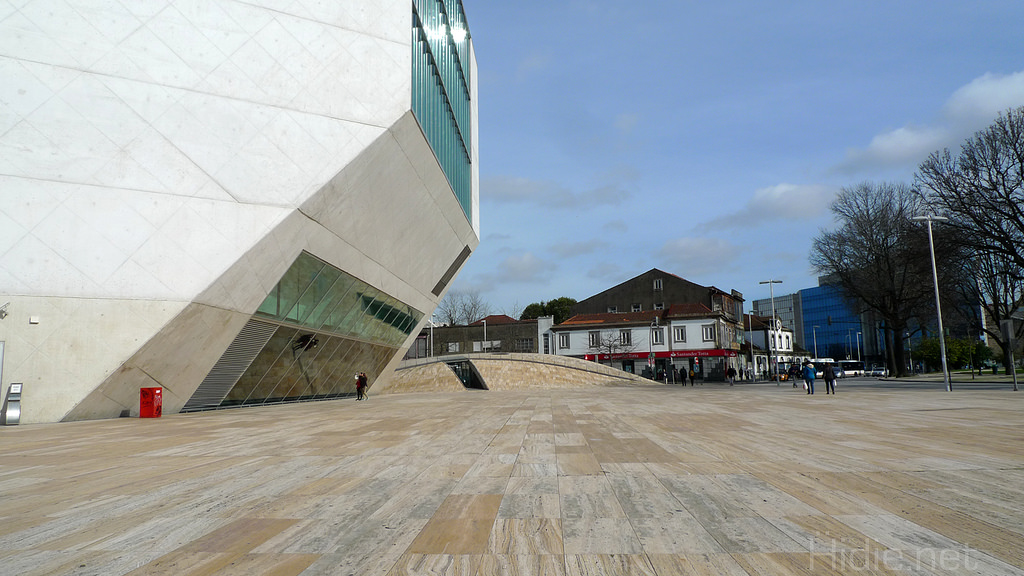musica: (0, 0, 481, 425)
